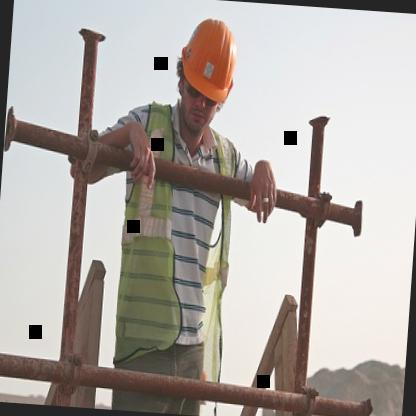helmet: (163, 0, 248, 153)
